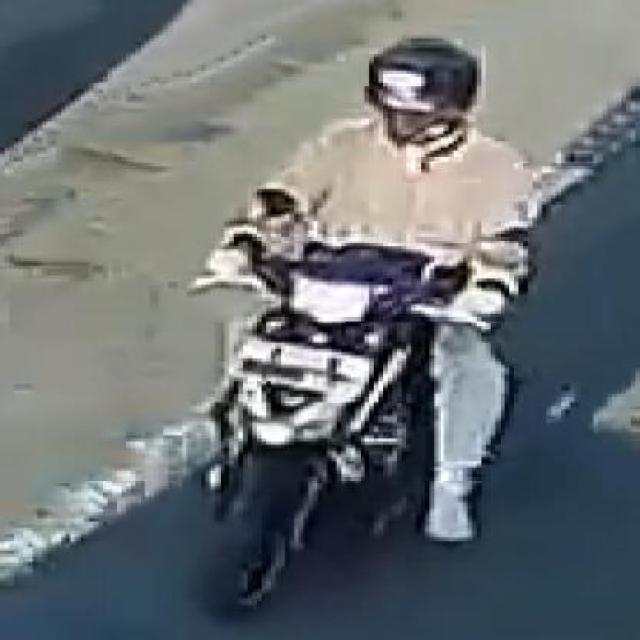helmet: (348, 29, 504, 152)
motorcycle: (186, 17, 549, 623)
